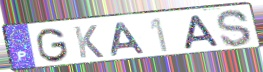1: (149, 16, 170, 54)
A: (182, 14, 222, 51), (110, 21, 148, 58)
G: (35, 27, 71, 64)
K: (71, 24, 106, 60)
S: (215, 8, 254, 49)
